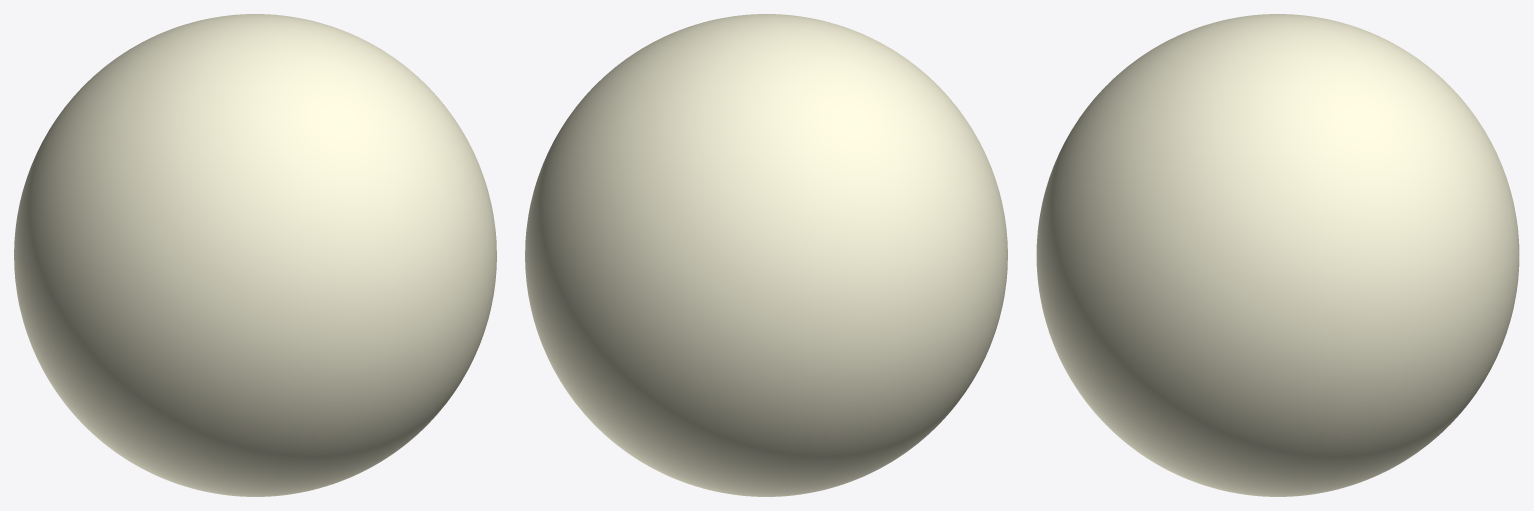
File: 0ball.obj
3 views of the same model, side by side, from view 1: azimuth 30°, elevation 25°; view 2: azimuth 150°, elevation 25°; view 3: azimuth 270°, elevation 25° (orthographic).
Visible parts, largest first — view 1: moon_Sphere; view 2: moon_Sphere; view 3: moon_Sphere.
Part boxes in pixels (box(x1,y1,x2,y2)): moon_Sphere: box(14, 14, 496, 496); moon_Sphere: box(525, 14, 1007, 496); moon_Sphere: box(1036, 14, 1519, 496).
Bounding box in the file's own units: 2 × 2 × 2.
1 material, 1 textured.
